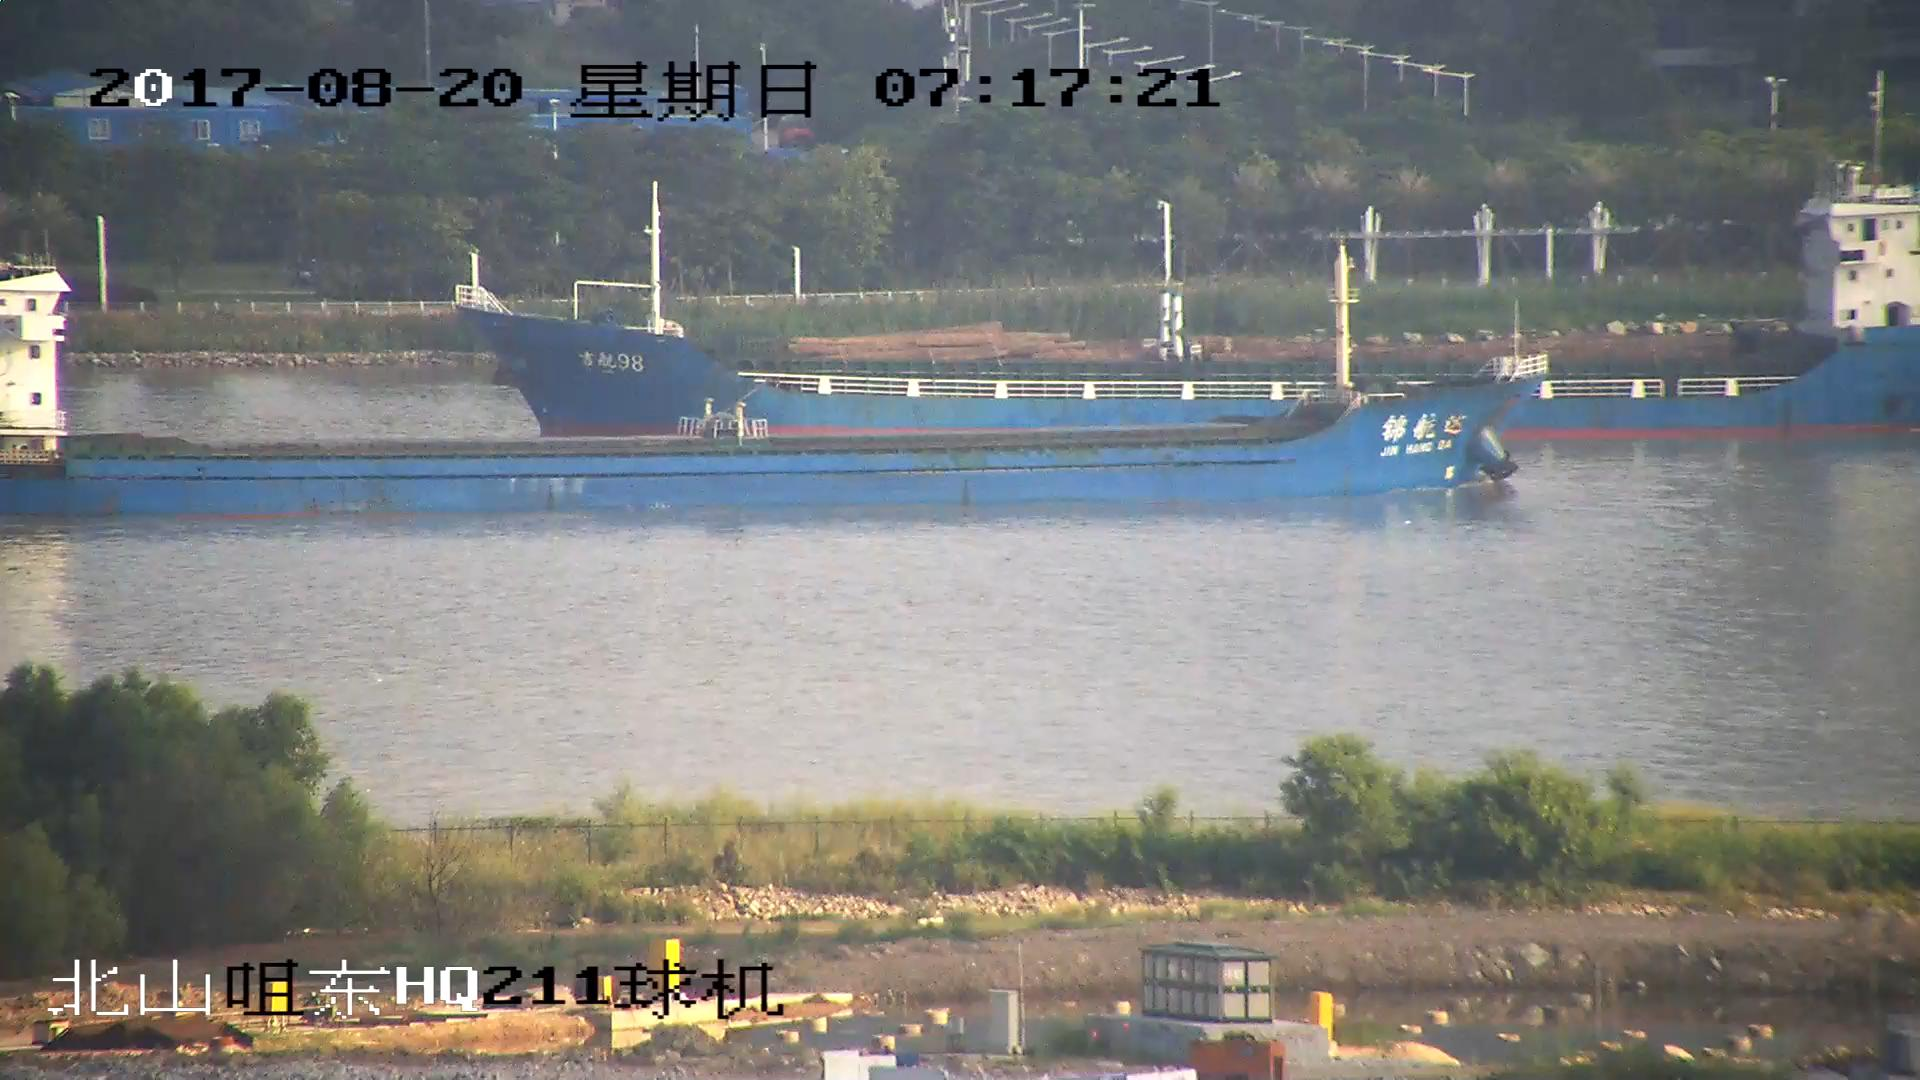general cargo ship: (463, 128, 1920, 441), (1, 256, 1525, 520)
